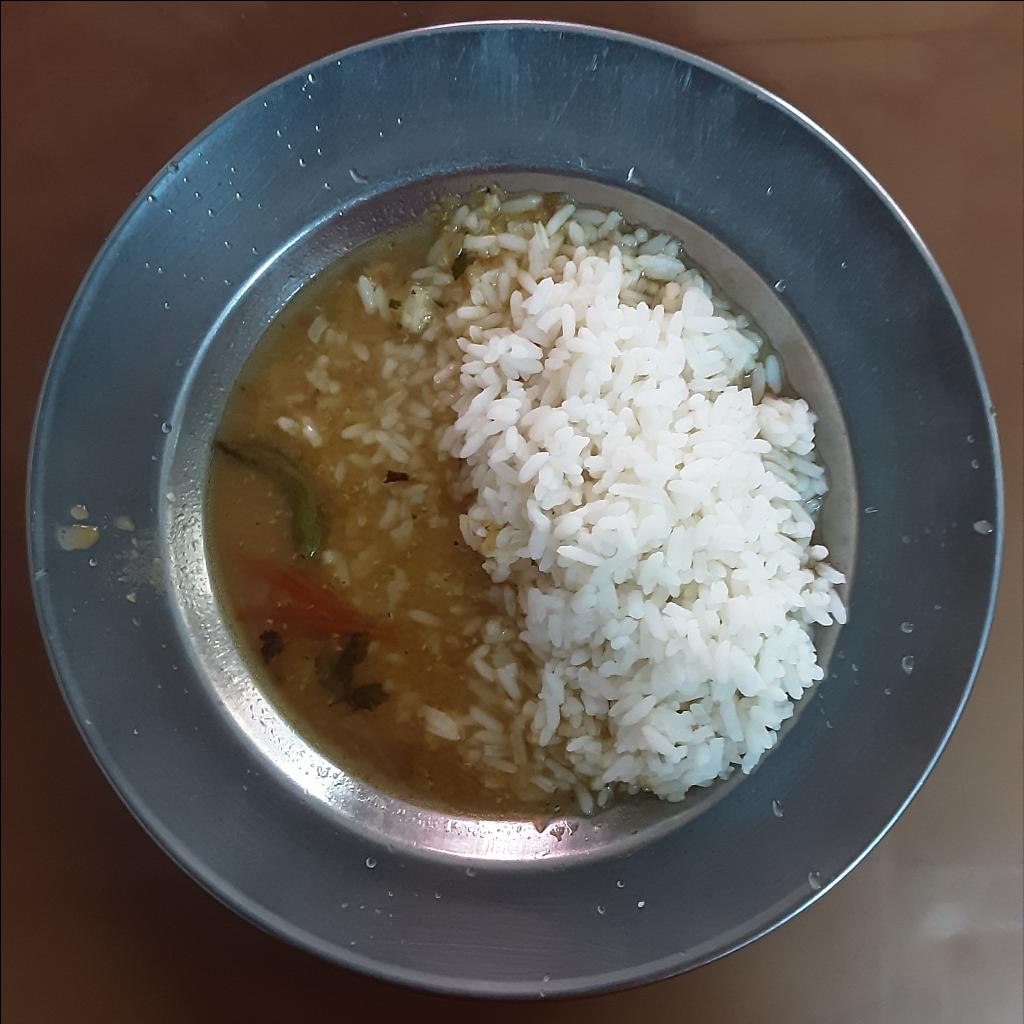daal: (201, 203, 572, 819)
rice: (278, 186, 843, 814)
